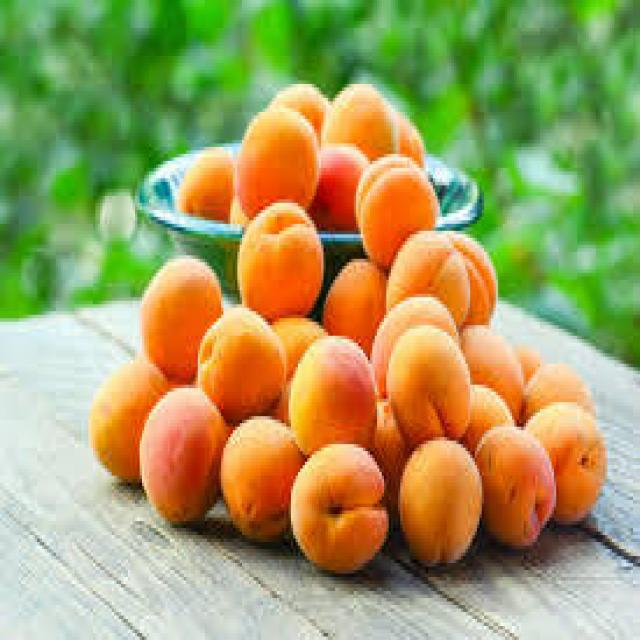yaprak: (130, 162, 608, 582)
